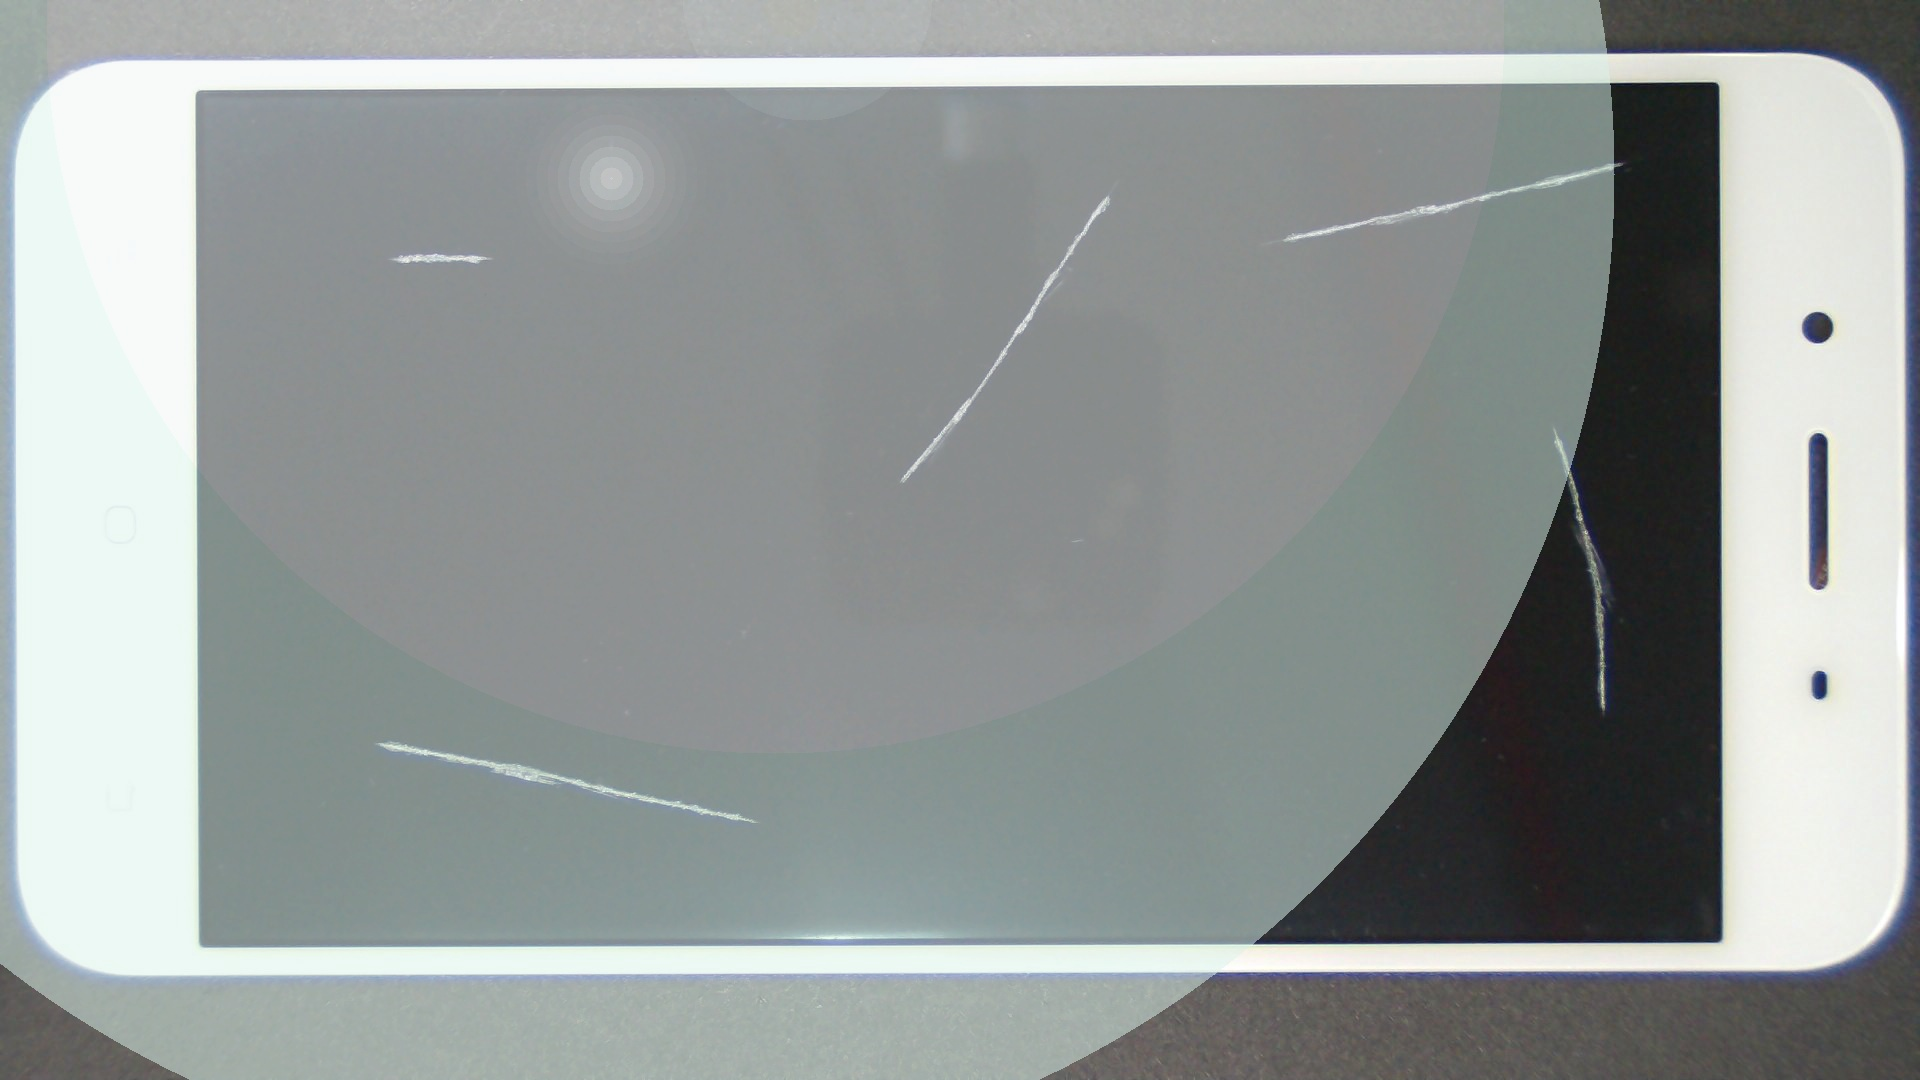oil: (775, 210, 1920, 641), (194, 371, 579, 1080), (555, 95, 1660, 291), (808, 80, 1920, 244), (219, 125, 655, 378)
